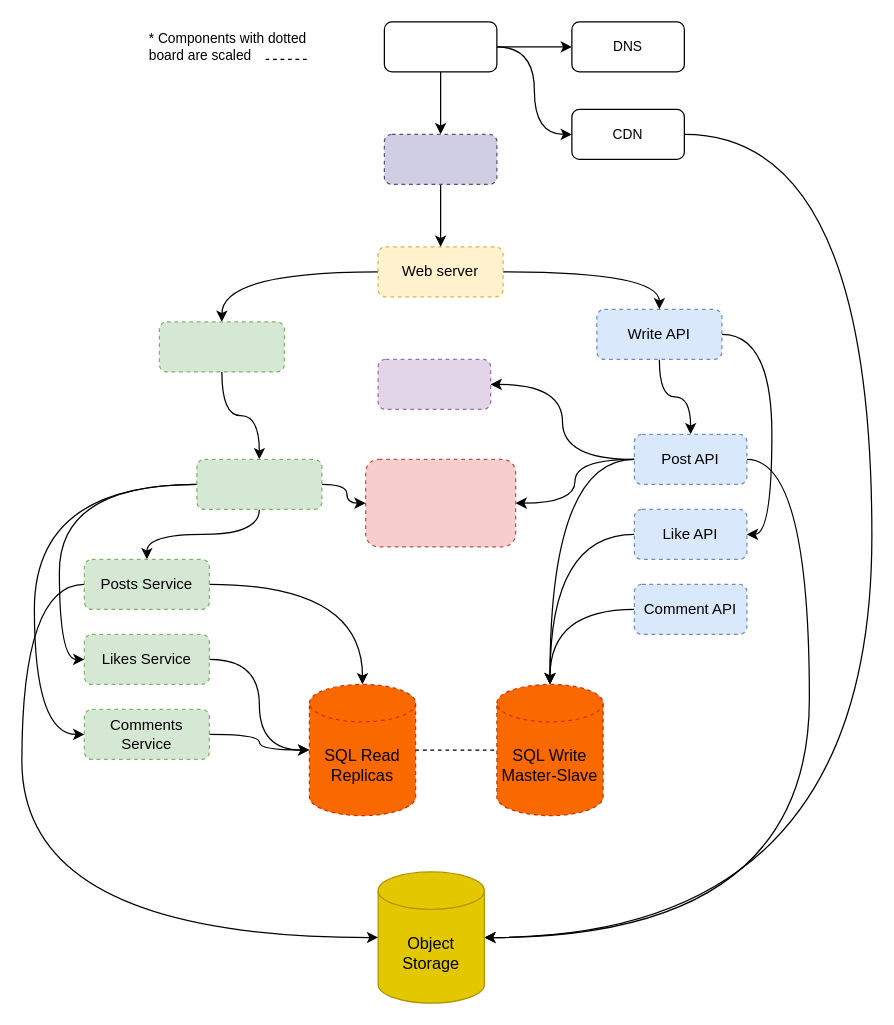
Some shapes in this 894 by 1025 pixel diagram are drawn without their labels. Each missing label, with the centre of its shape:
"Client" belongs at (x=440, y=46).
"Load Balancer" belongs at (x=440, y=158).
"Memory Cache" belongs at (x=440, y=502).
"News feed service" belongs at (x=259, y=483).
"Read API" belongs at (x=221, y=346).
"User Graph Service" belongs at (x=434, y=383).
